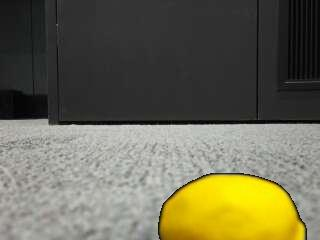lemon: (161, 175, 306, 240)
